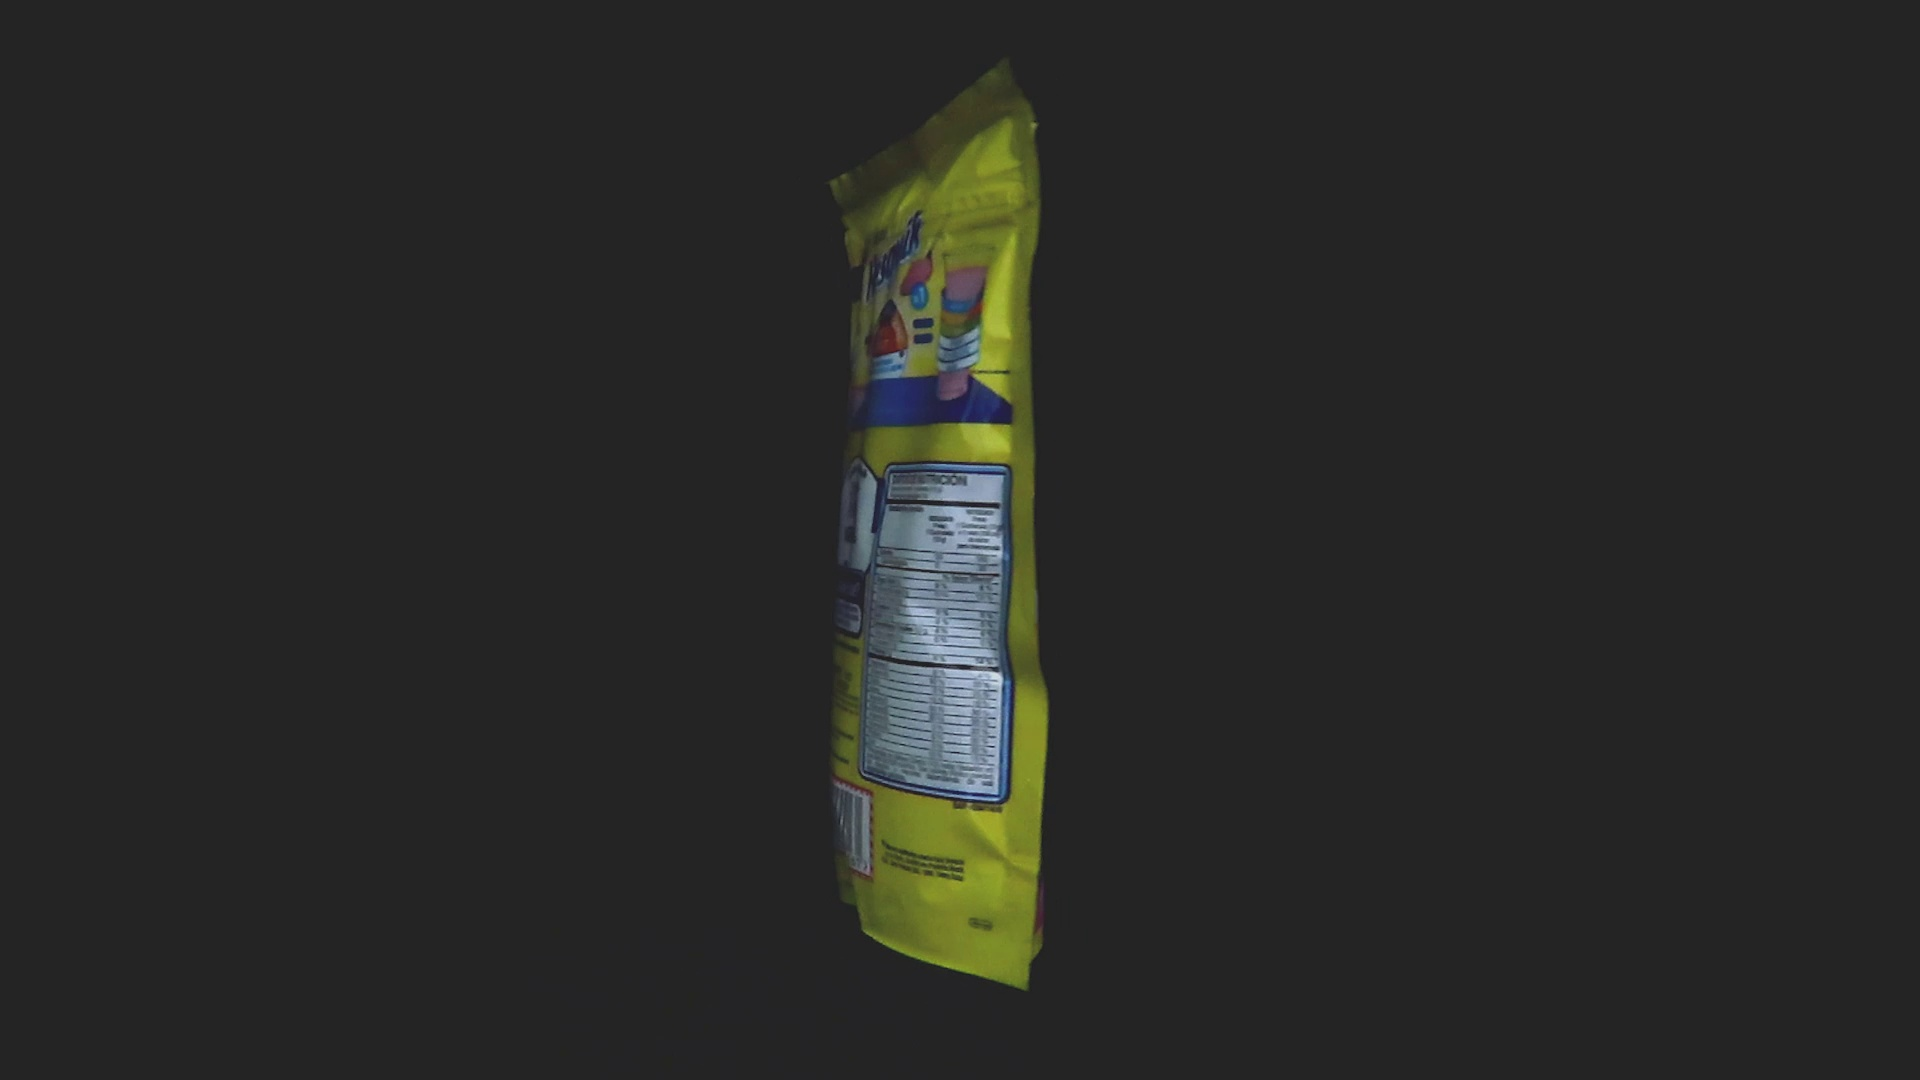COL0170305DYP20000: (828, 182, 1055, 997)
